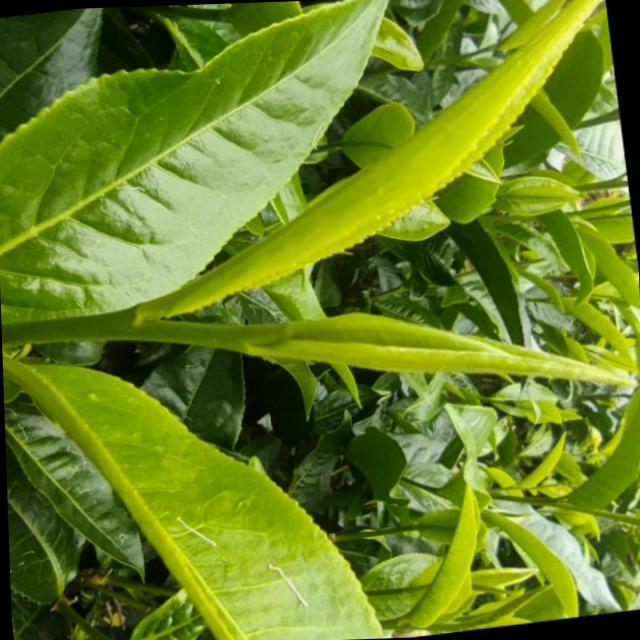Stem: (113, 304, 142, 340)
